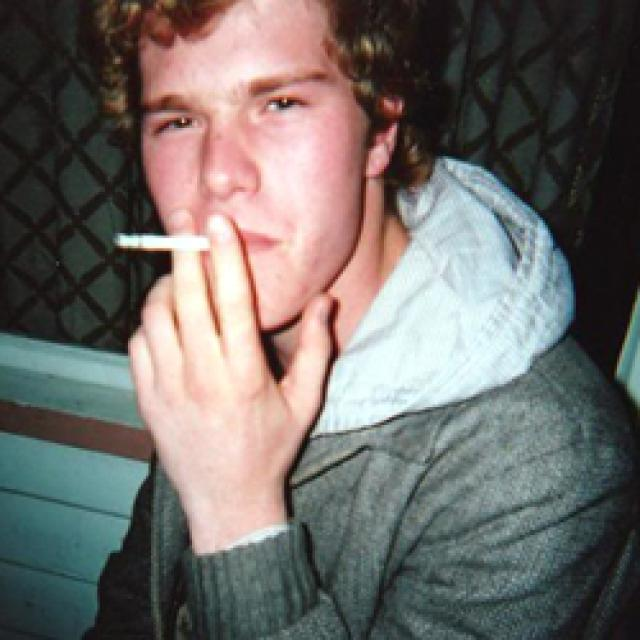Smooking: (107, 228, 224, 267)
